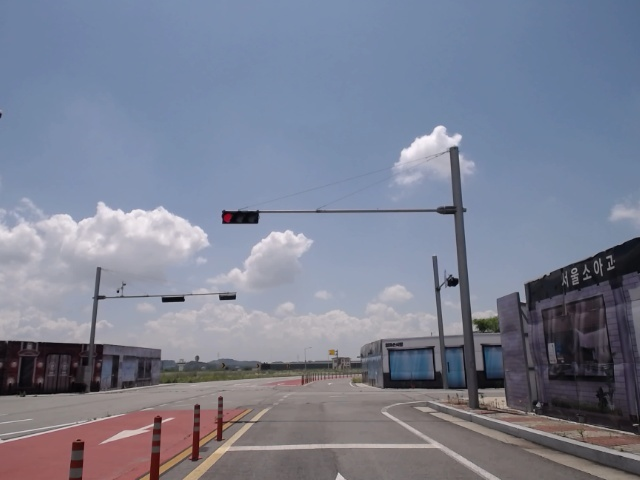red_3: (222, 210, 260, 226)
